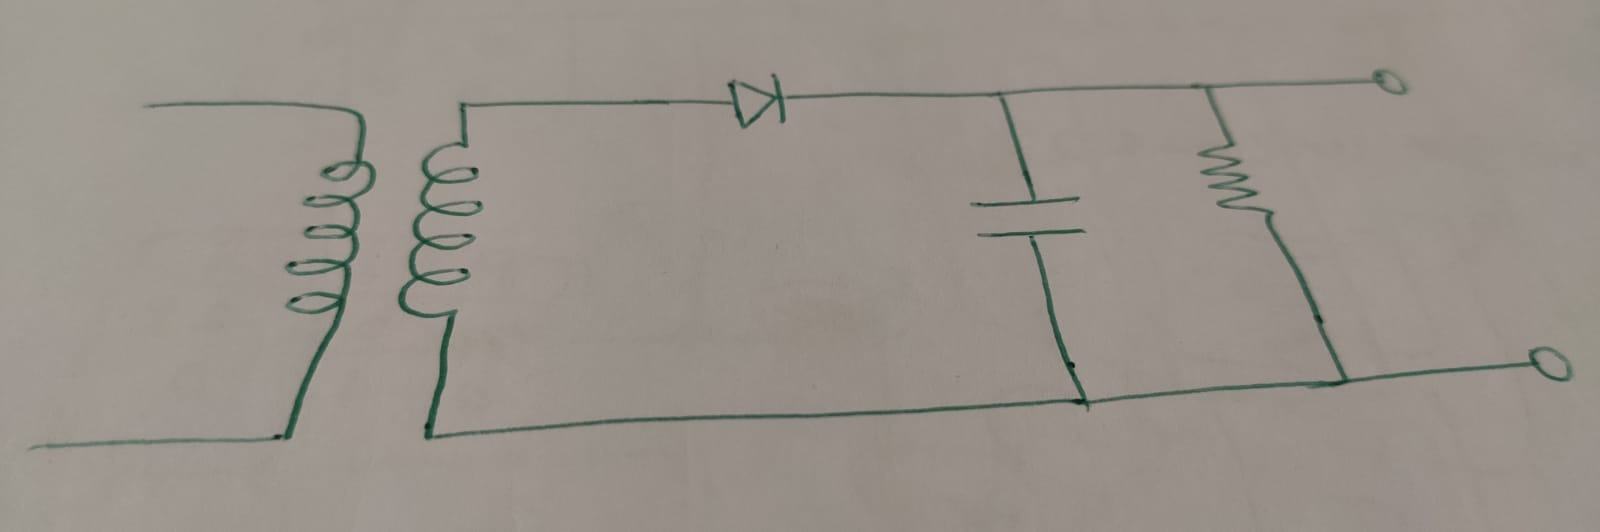capacitor.unpolarized: (970, 190, 1084, 243)
diode: (726, 68, 793, 128)
junction: (1190, 68, 1235, 100), (412, 420, 443, 453), (340, 101, 371, 130), (271, 420, 300, 451), (985, 81, 1018, 104), (450, 95, 479, 120), (1067, 388, 1097, 413), (1330, 372, 1358, 391)
resistor: (1196, 134, 1277, 227)
terminal: (1526, 341, 1572, 380), (1364, 61, 1410, 100), (21, 433, 54, 461), (136, 96, 162, 116)
transformer: (287, 138, 487, 321)
